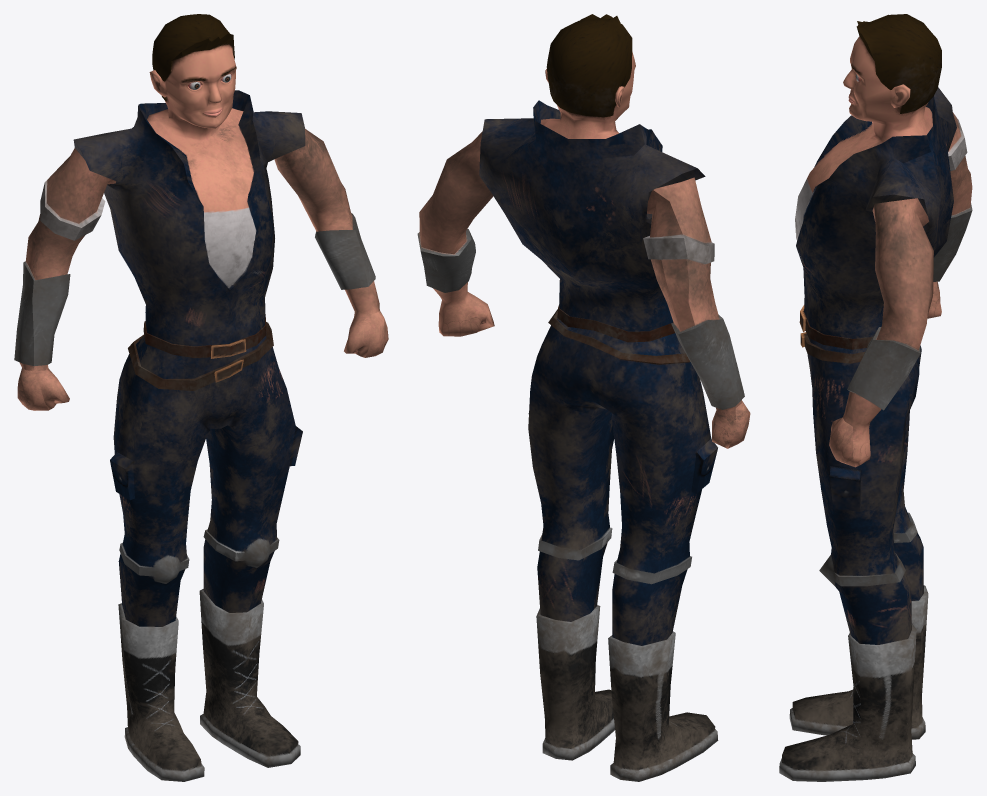
Rendered from Anim_ataque_d1_jugador.0011.obj.
3 renders of one model, left to right at view 1: azimuth 30°, elevation 25°; view 2: azimuth 150°, elevation 25°; view 3: azimuth 270°, elevation 25°, orthographic. The views are drawn at different scales.
Parts seen in each view (by area): view 1: polySurface1; view 2: polySurface1; view 3: polySurface1.
Part boxes in pixels (x1,y1,x2,y2): polySurface1: (14, 14, 388, 781); polySurface1: (417, 14, 750, 781); polySurface1: (779, 14, 972, 781).
Bounding box in the file's own units: 4.66 × 9.62 × 2.29.
